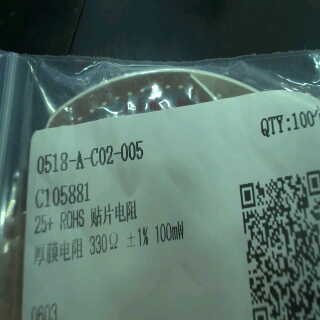330R: (86, 228, 120, 256)
